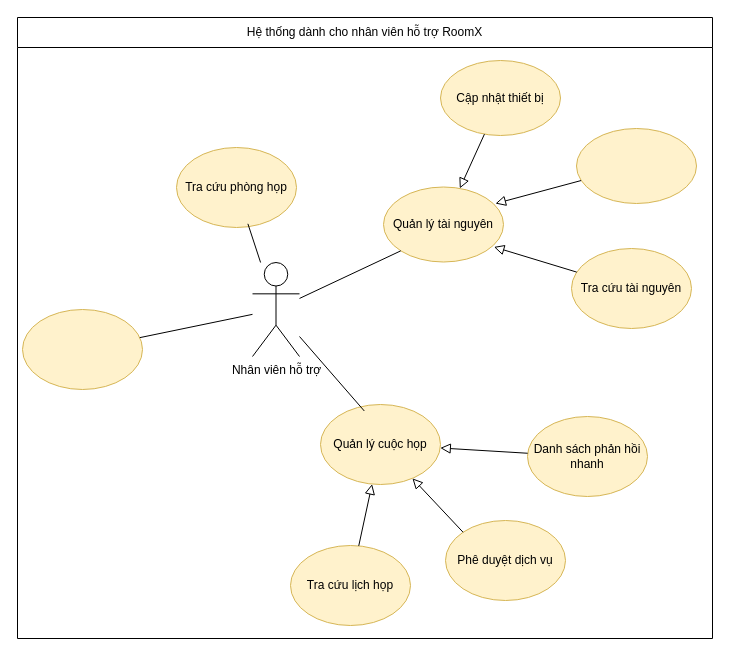
Image size: 730x656. Some labels were removed from this diagram. Here are the shapes that lost their labels. From the top down, the box of each, then its label:
(576, 128, 696, 204): Báo cáo hỏng
(22, 308, 142, 390): Cập nhật hồ sơ
